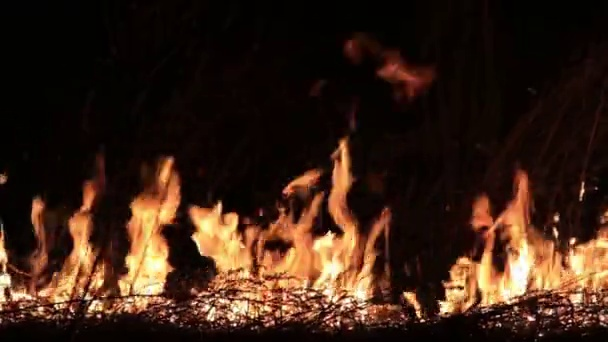fire: (190, 144, 389, 319), (443, 173, 608, 311), (125, 157, 180, 297), (64, 183, 105, 302), (30, 197, 47, 297), (1, 226, 12, 305)
